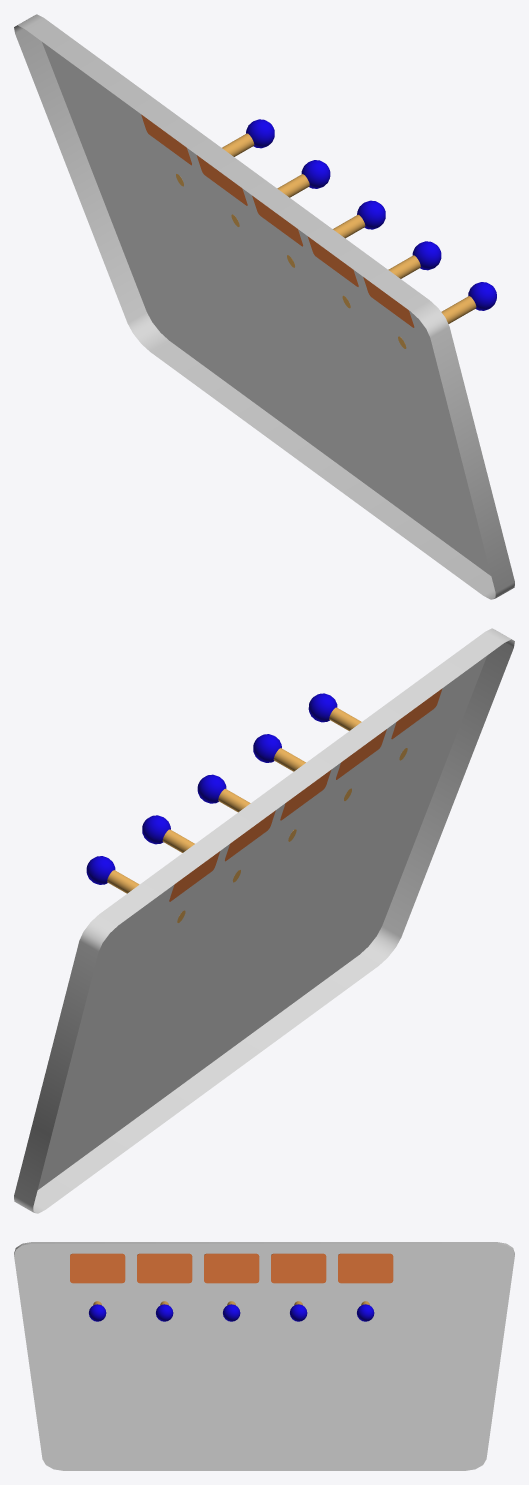
Rendered from Terminal Slider Panel.fbx.
3 renders of one model, top to bottom at view 1: azimuth 30°, elevation 25°; view 2: azimuth 150°, elevation 25°; view 3: azimuth 270°, elevation 25°, orthographic. The views are drawn at different scales.
Visible parts, largest first — view 1: Cube.004, Lever.001, Name Panel.001; view 2: Cube.004, Lever.001, Name Panel.001; view 3: Cube.004, Name Panel.001, Lever.001.
Boxes of the visible parts, box(x1,y1,x2,y2) form: Cube.004: box(14, 14, 514, 599); Lever.001: box(176, 119, 496, 348); Name Panel.001: box(141, 114, 414, 327); Cube.004: box(14, 628, 514, 1213); Lever.001: box(86, 693, 407, 922); Name Panel.001: box(169, 688, 442, 901); Cube.004: box(14, 1242, 514, 1470); Name Panel.001: box(70, 1253, 393, 1283); Lever.001: box(89, 1301, 374, 1321).
Size of the model in its own units: 16.5 by 37.86 by 85.24.
